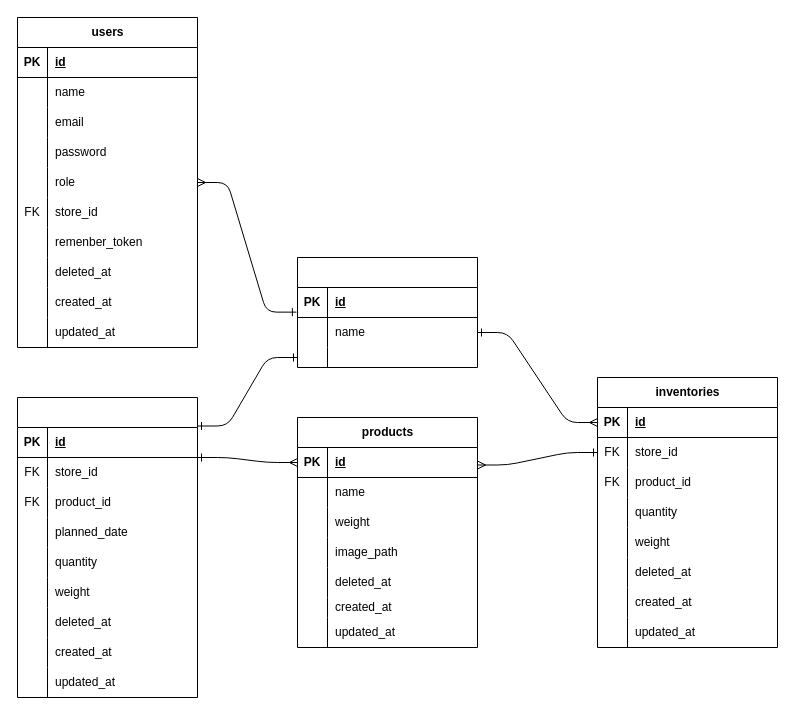
Image size: 795x715. Some labels were removed from this diagram. Each missing label, with the box of its shape:
incoming_plans: (16, 396, 198, 698)
stores: (296, 256, 478, 368)
